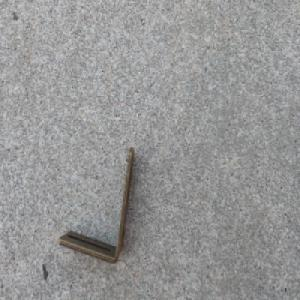MetalPart: (59, 145, 137, 265)
